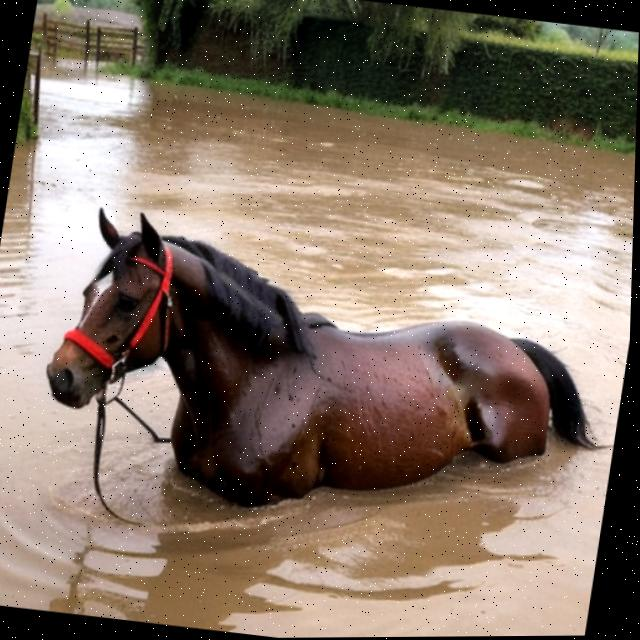horse: (2, 186, 634, 585)
